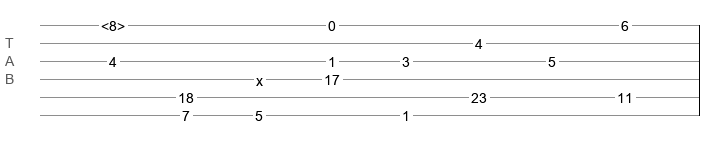0: (328, 18, 336, 28)
1: (328, 54, 336, 64), (402, 108, 410, 118)
11: (617, 90, 633, 100)
17: (324, 72, 340, 82)
18: (178, 90, 194, 100)
23: (471, 90, 487, 100)
3: (402, 54, 410, 64)
4: (109, 54, 117, 64), (475, 36, 483, 46)
5: (255, 108, 263, 118), (548, 54, 556, 64)
6: (621, 18, 629, 28)
7: (182, 108, 190, 118)
harmonic: (101, 18, 125, 28)
x: (256, 73, 263, 81)
